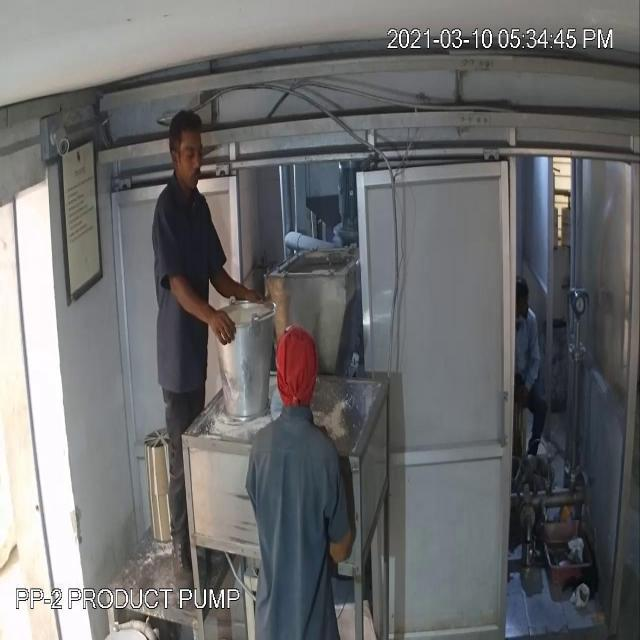No_Gloves: (57, 65, 233, 308)
